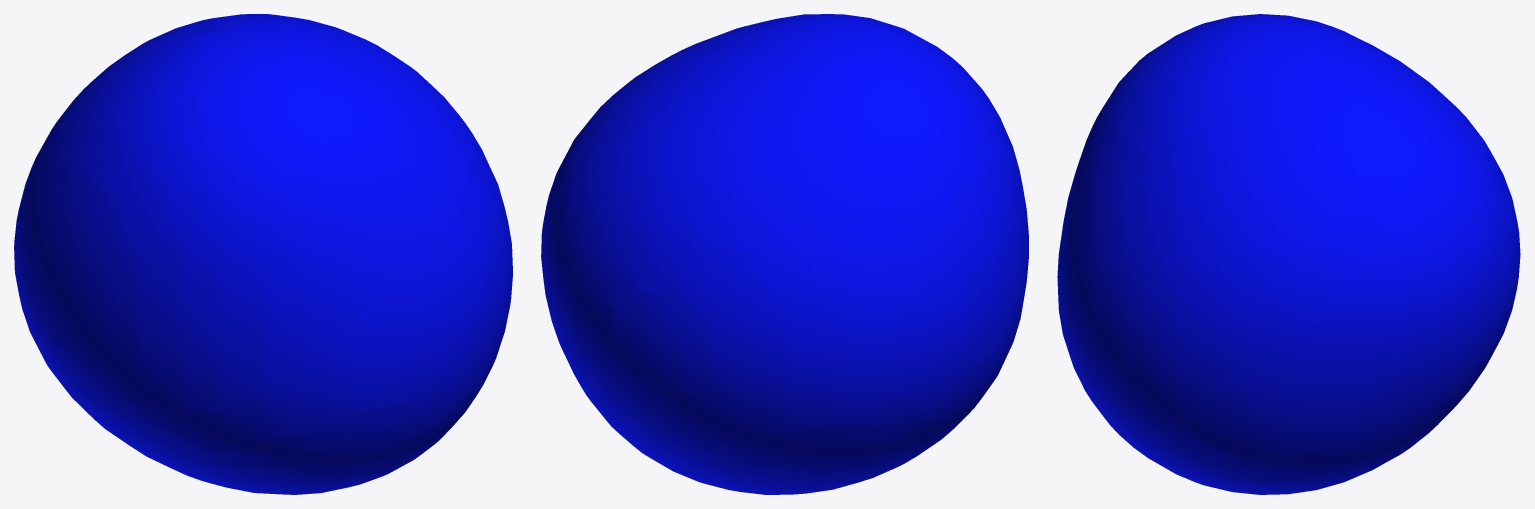
The model's file is Blob.glb.
3 renders of one model, left to right at view 1: azimuth 30°, elevation 25°; view 2: azimuth 150°, elevation 25°; view 3: azimuth 270°, elevation 25°, orthographic. The views are drawn at different scales.
Parts seen in each view (by area): view 1: Mball.001; view 2: Mball.001; view 3: Mball.001.
Part boxes in pixels (x1,y1,x2,y2): Mball.001: (14,14,512,494); Mball.001: (541,14,1028,494); Mball.001: (1057,14,1520,494).
Bounding box in the file's own units: 0.0553 × 0.0553 × 0.0553.
